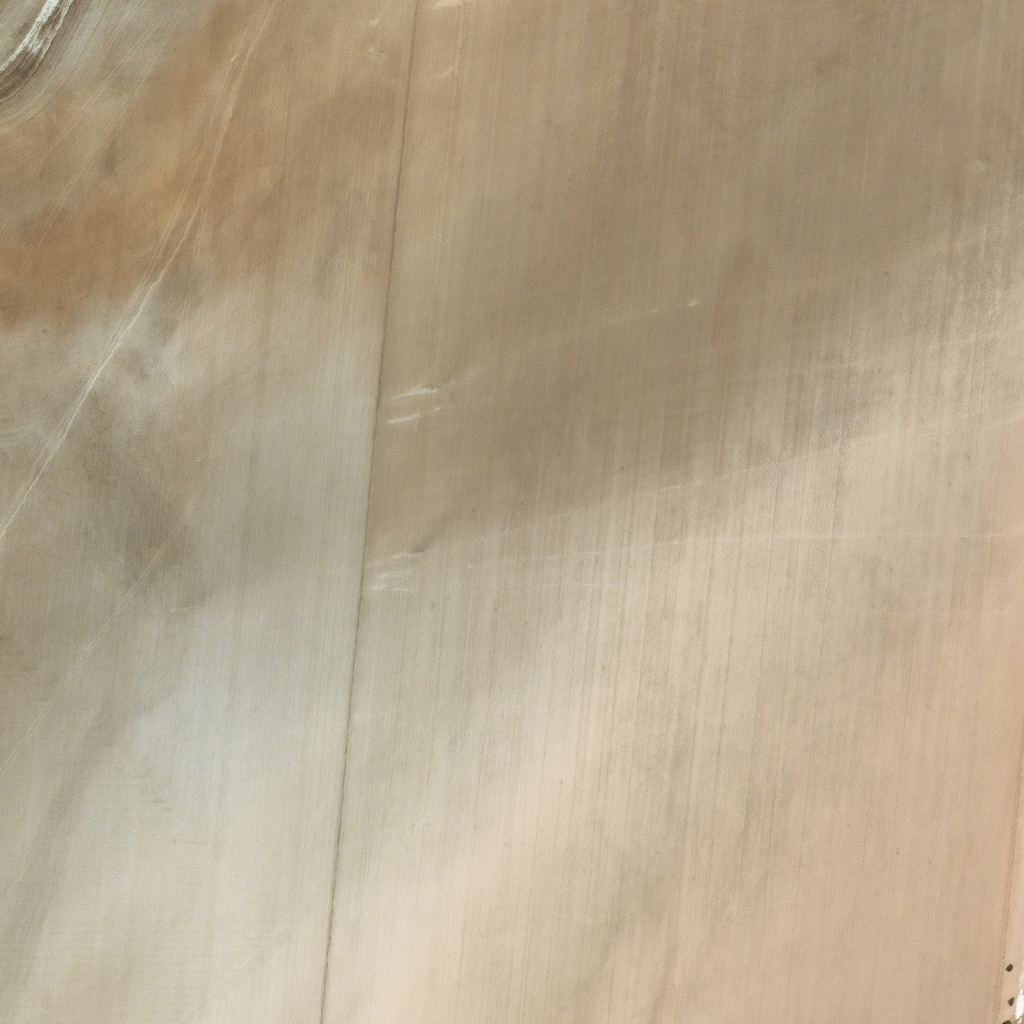4 un-classified: (678, 933, 690, 944), (752, 951, 763, 961), (806, 941, 816, 951)
